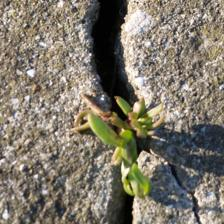Crack: (83, 3, 148, 112), (149, 148, 203, 222), (101, 156, 143, 221)
